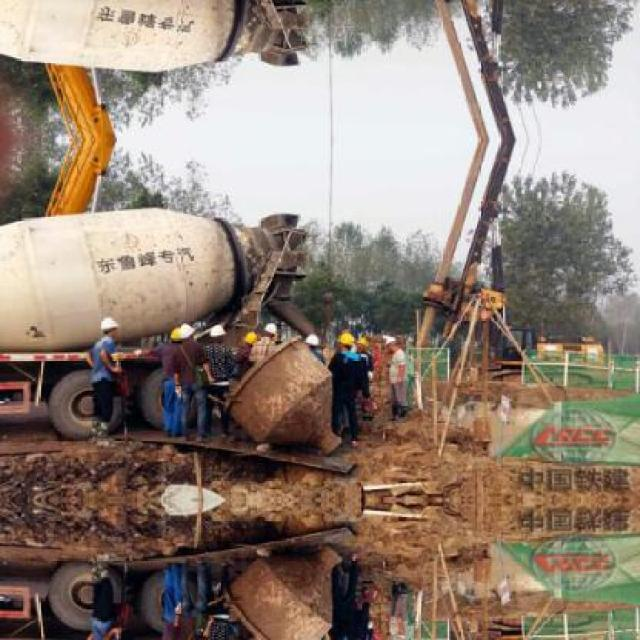helmet: (97, 312, 118, 341), (334, 331, 355, 355), (175, 322, 194, 343), (210, 323, 227, 345), (243, 329, 259, 351), (263, 318, 279, 340), (384, 333, 401, 353), (166, 327, 182, 347), (306, 331, 320, 352)
